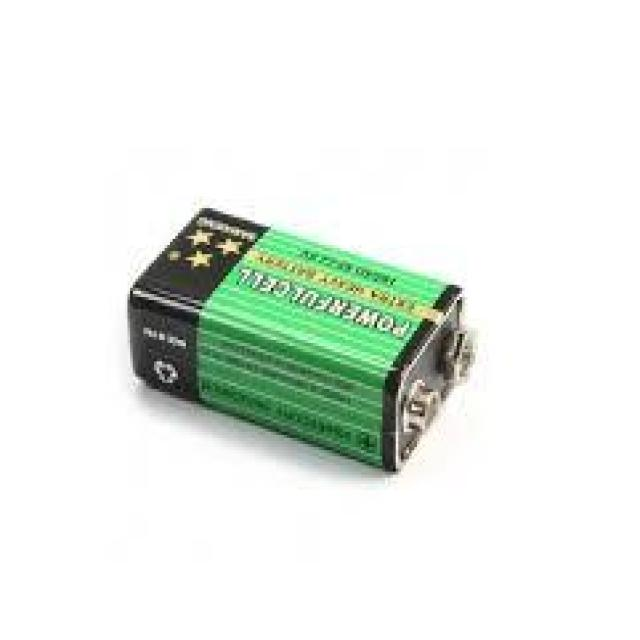9V: (106, 173, 478, 488)
